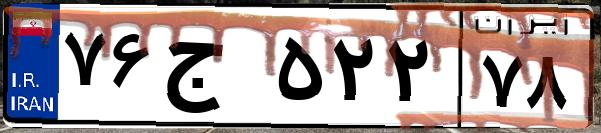2: (385, 28, 445, 110), (330, 28, 385, 110)
5: (270, 28, 330, 110)
6: (110, 28, 158, 98)
7: (57, 26, 110, 100), (475, 38, 525, 113)
8: (525, 38, 570, 115)
ج: (158, 20, 270, 120)
